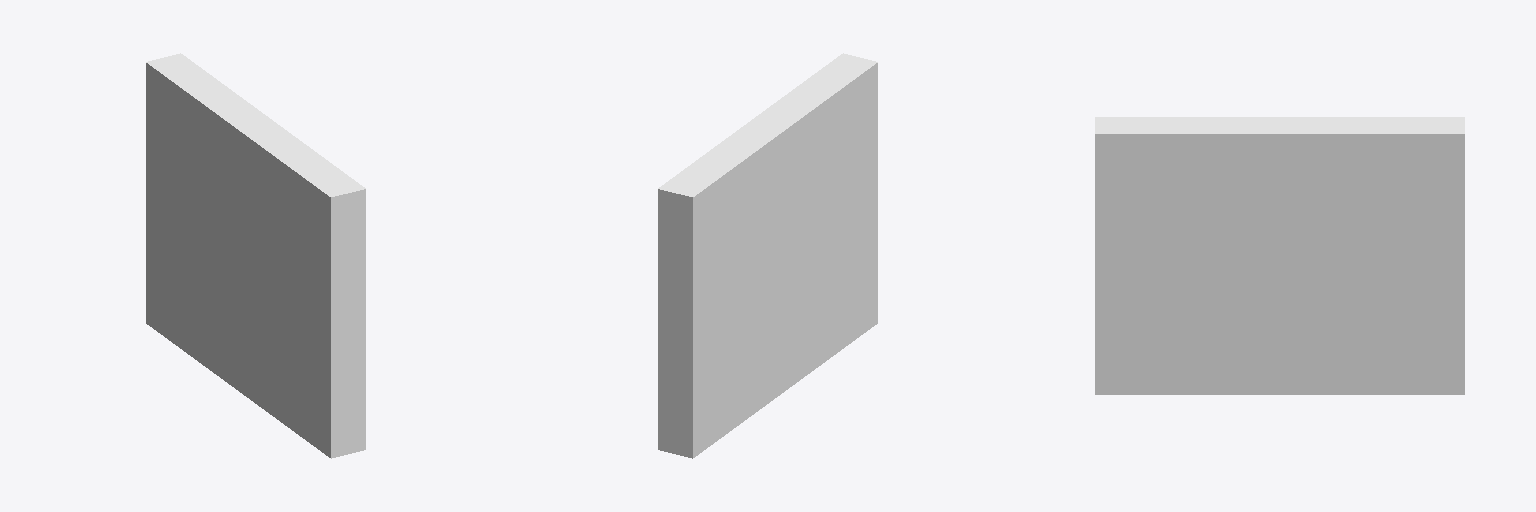
File: BedroomandMainRoom-1.obj
The picture shows the model from 3 angles: view 1: azimuth 30°, elevation 25°; view 2: azimuth 150°, elevation 25°; view 3: azimuth 270°, elevation 25°; orthographic projection.
Visible parts, largest first — view 1: object 1; view 2: object 1; view 3: object 1.
Part boxes in pixels (x1,y1,x2,y2): object 1: (146, 53, 365, 458); object 1: (658, 53, 877, 458); object 1: (1095, 117, 1464, 394).
Bounding box in the file's own units: 0.1 × 0.7 × 0.9.